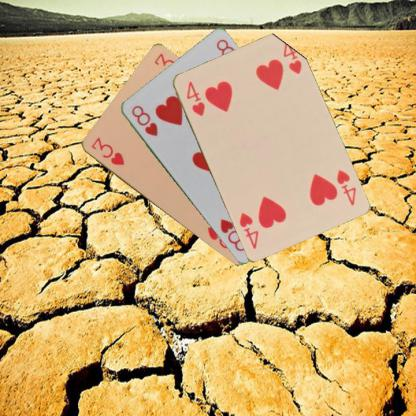3h: (88, 135, 126, 167)
4h: (333, 167, 357, 207), (183, 79, 206, 117)
8h: (128, 102, 159, 138)
